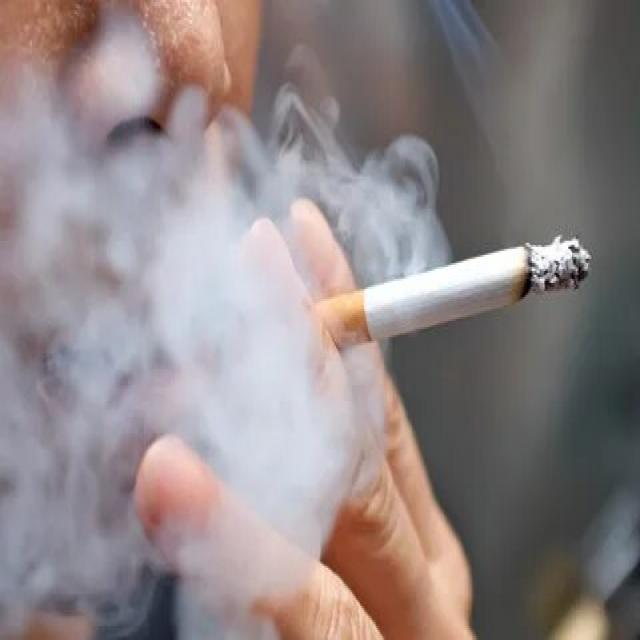smoke: (312, 231, 593, 359)
